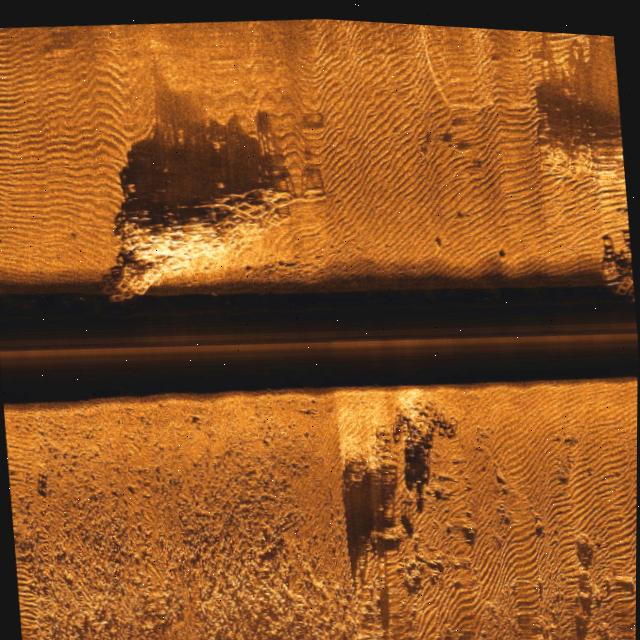artificial reef: (90, 168, 330, 309), (596, 237, 634, 292)
